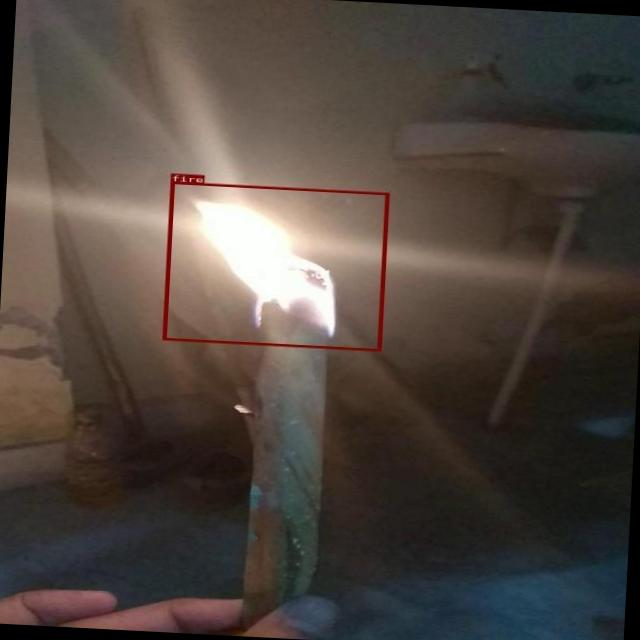fire: (162, 181, 389, 351)
